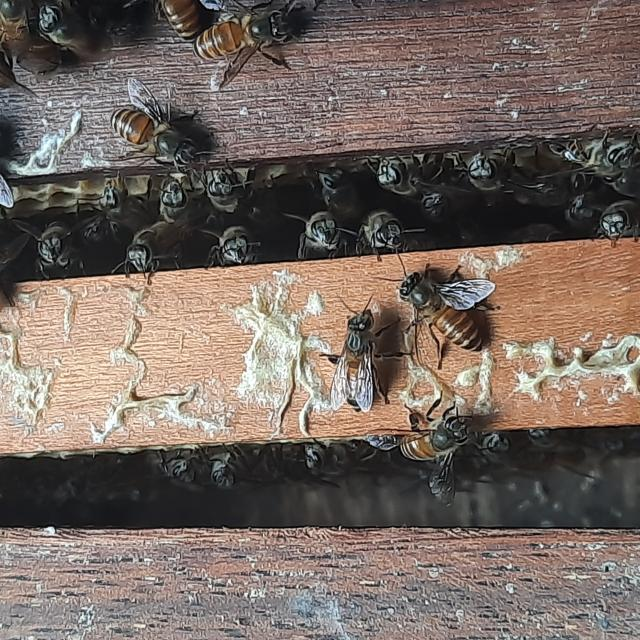honeybee: (389, 268, 491, 364), (98, 84, 196, 179), (399, 406, 490, 498), (322, 298, 383, 426), (10, 211, 113, 284), (195, 10, 291, 80), (537, 130, 640, 178), (294, 440, 396, 487), (34, 0, 98, 57), (124, 225, 194, 273), (377, 149, 437, 201), (413, 179, 476, 228), (204, 173, 268, 220), (302, 160, 362, 208), (292, 209, 349, 259), (456, 152, 514, 201), (156, 0, 208, 54), (84, 165, 126, 225), (353, 211, 408, 254), (208, 222, 259, 268), (599, 192, 640, 248), (154, 167, 192, 224), (0, 0, 35, 60), (209, 442, 246, 497), (156, 450, 206, 490)
